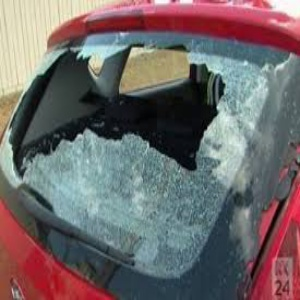rear_windshield_glass: (32, 39, 235, 216)
